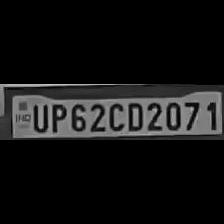0: (163, 99, 181, 130)
1: (202, 100, 218, 130)
2: (87, 100, 105, 132), (144, 100, 162, 132)
6: (68, 102, 86, 132)
7: (182, 99, 200, 130)
C: (106, 100, 124, 132)
D: (125, 100, 143, 132)
P: (48, 102, 66, 132)
U: (29, 102, 47, 132)
